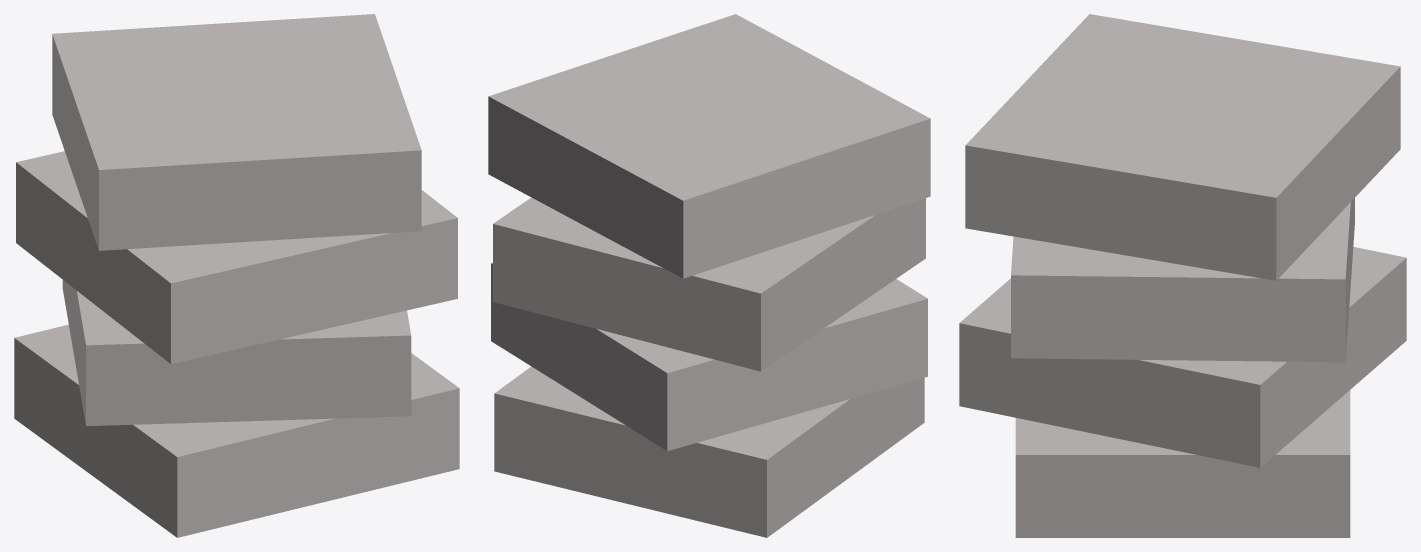
Rendered from  gameboy_cartridges.glb.
3 renders of one model, left to right at view 1: azimuth 30°, elevation 25°; view 2: azimuth 150°, elevation 25°; view 3: azimuth 270°, elevation 25°, orthographic. The views are drawn at different scales.
Visible parts, largest first — view 1: GameBoy.Cartridge; view 2: GameBoy.Cartridge; view 3: GameBoy.Cartridge.
Boxes of the visible parts, left/top/right/bottom form: GameBoy.Cartridge: left=14, top=14, right=459, bottom=537; GameBoy.Cartridge: left=488, top=14, right=930, bottom=537; GameBoy.Cartridge: left=959, top=14, right=1406, bottom=537.
Bounding box in the file's own units: 0.0639 × 0.0569 × 0.0639.
Materials: 1 (1 with a texture image).
